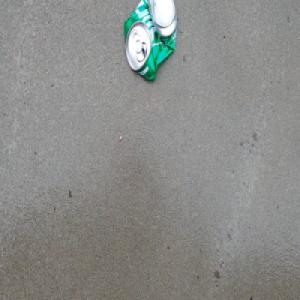SodaCan: (123, 0, 178, 82)
